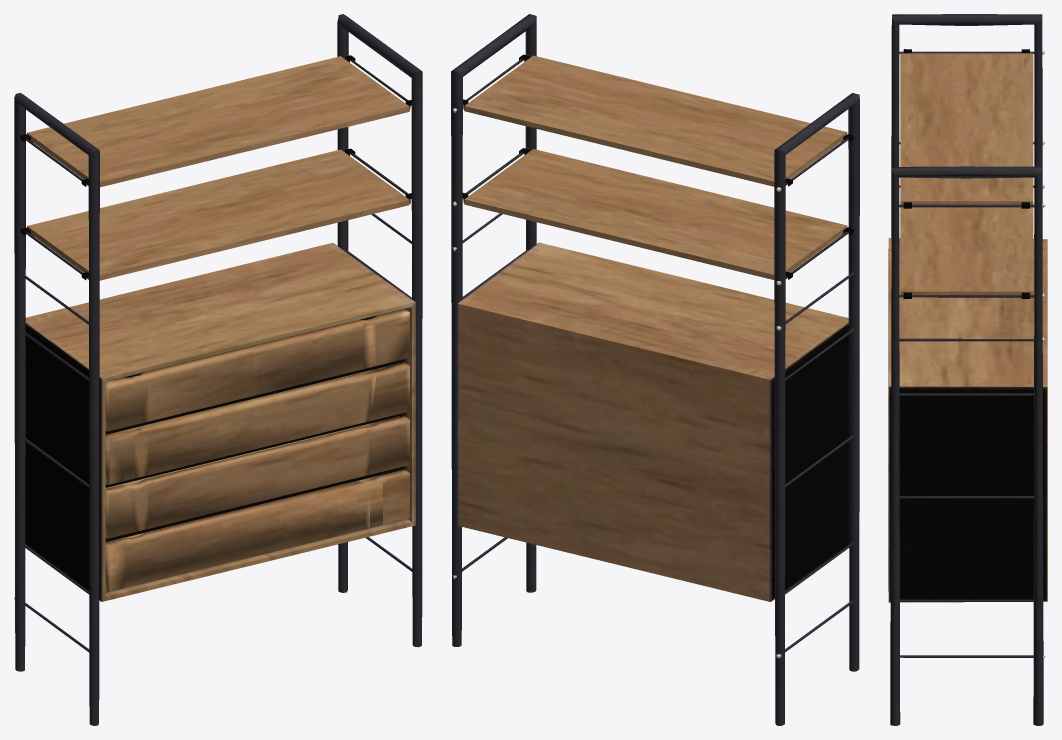
The model's file is drawer_cabinet.glb.
3 renders of one model, left to right at view 1: azimuth 30°, elevation 25°; view 2: azimuth 150°, elevation 25°; view 3: azimuth 270°, elevation 25°, orthographic. The views are drawn at different scales.
Visible parts, largest first — view 1: drawer_cabinet; view 2: drawer_cabinet; view 3: drawer_cabinet.
Part boxes in pixels (x1,y1,x2,y2): drawer_cabinet: [14, 14, 422, 725]; drawer_cabinet: [451, 14, 859, 725]; drawer_cabinet: [888, 14, 1047, 725].
Size of the model in its own units: 1.14 by 1.88 by 0.4881.
Materials: 1 (1 with a texture image).
